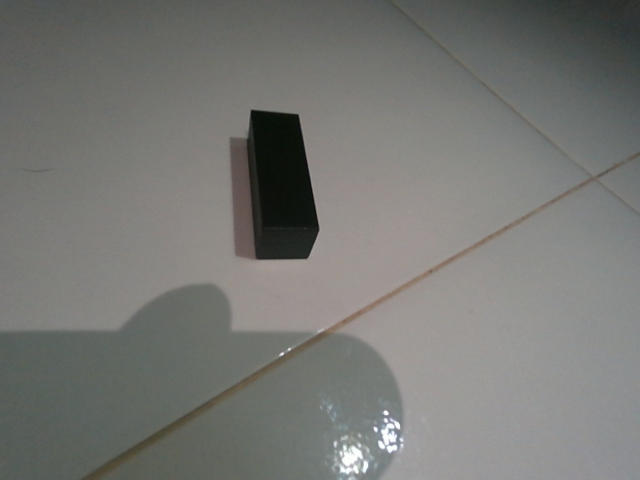Balok-Hitam: (247, 111, 317, 259)
